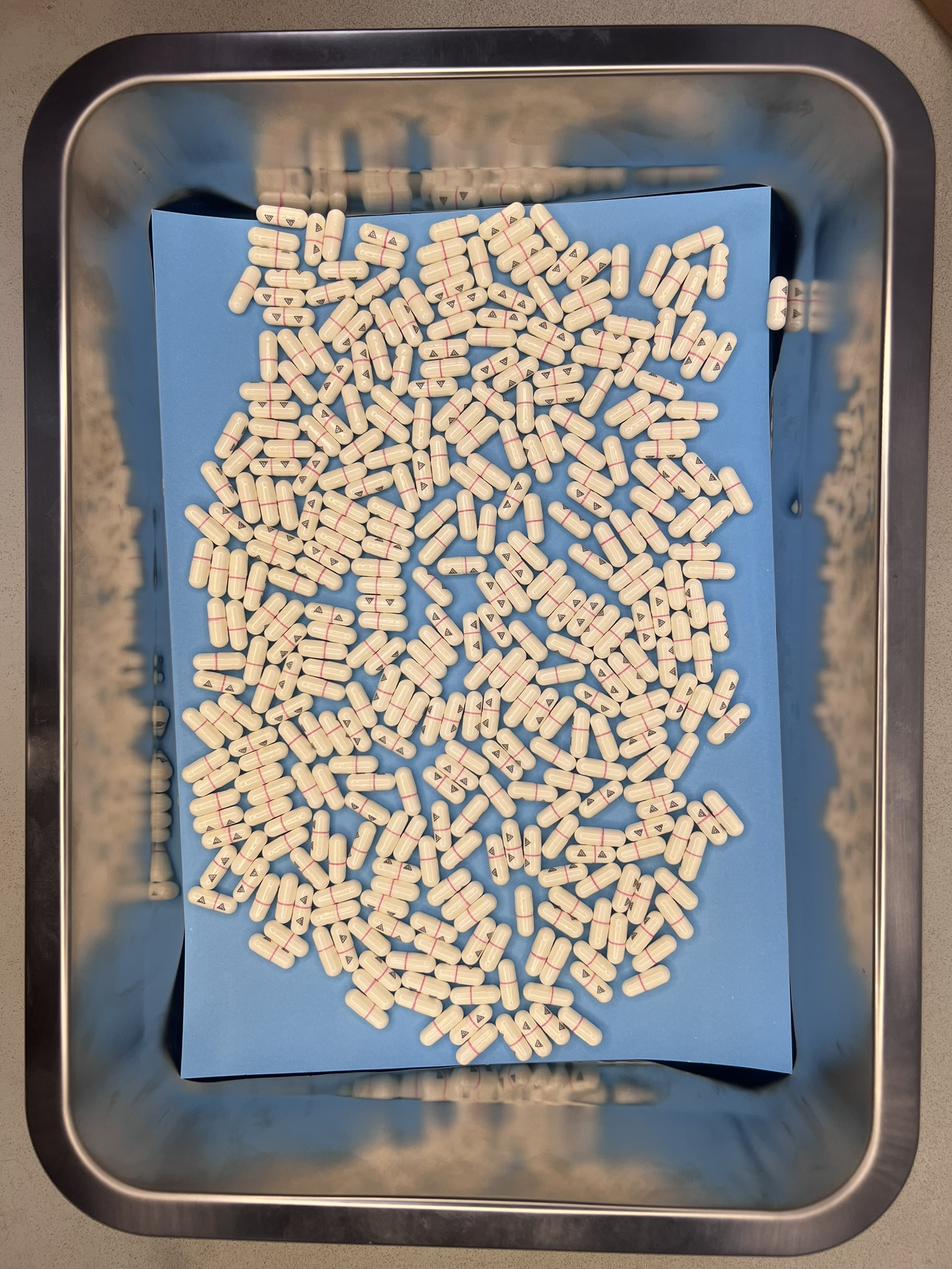Capsule: (418, 1003, 466, 1047), (652, 866, 699, 910), (682, 452, 726, 499), (652, 259, 691, 312), (702, 789, 745, 837), (629, 933, 679, 974), (508, 245, 558, 286), (688, 499, 734, 543), (557, 1004, 604, 1047), (514, 1009, 554, 1059), (566, 247, 612, 290), (524, 557, 570, 600), (354, 266, 401, 308), (495, 1012, 534, 1062), (530, 202, 569, 252), (613, 339, 652, 389), (181, 706, 225, 750), (455, 1022, 500, 1065), (466, 454, 511, 497), (186, 504, 231, 547), (546, 241, 589, 286), (565, 591, 607, 637), (430, 387, 472, 433), (200, 459, 240, 507), (630, 506, 670, 554), (655, 891, 694, 940), (529, 1002, 572, 1046), (708, 702, 751, 746), (299, 414, 342, 458), (658, 458, 701, 502), (209, 501, 254, 543), (680, 329, 717, 380), (572, 940, 618, 981), (668, 496, 714, 537), (246, 591, 287, 637), (608, 551, 654, 592), (619, 400, 666, 440), (278, 359, 318, 406), (478, 200, 525, 240), (672, 225, 724, 261), (226, 264, 262, 316), (663, 732, 700, 782), (570, 960, 613, 1003), (221, 434, 264, 477), (445, 400, 487, 444), (687, 800, 728, 845), (548, 500, 593, 541), (318, 297, 358, 343), (674, 266, 708, 320), (277, 329, 316, 376), (488, 216, 536, 254), (496, 234, 544, 272), (702, 330, 737, 382), (352, 968, 395, 1010), (359, 949, 402, 991), (311, 403, 354, 445), (593, 616, 635, 659), (345, 989, 389, 1030), (439, 829, 483, 870), (496, 727, 537, 771), (448, 1004, 493, 1044), (427, 866, 472, 906), (581, 603, 621, 648), (618, 566, 663, 606), (449, 461, 494, 501), (541, 813, 580, 859), (529, 733, 576, 771), (608, 507, 646, 554), (560, 278, 611, 313), (671, 310, 706, 361), (526, 276, 563, 324), (628, 484, 676, 521), (399, 277, 436, 325), (481, 739, 523, 781), (294, 556, 343, 592), (348, 915, 391, 956), (508, 619, 549, 662), (631, 459, 674, 500), (416, 523, 457, 566), (579, 780, 623, 820), (290, 846, 330, 890), (608, 651, 648, 695), (333, 310, 373, 354), (455, 416, 499, 456), (218, 693, 263, 732), (548, 587, 587, 632), (339, 427, 384, 466), (214, 411, 249, 461), (619, 725, 669, 760), (535, 791, 581, 829), (264, 920, 310, 958), (371, 723, 417, 761), (230, 829, 267, 876), (495, 567, 532, 614), (566, 481, 613, 518), (604, 390, 651, 427), (248, 933, 296, 969), (640, 244, 672, 298), (574, 862, 622, 898), (262, 825, 310, 861), (182, 747, 230, 783), (492, 356, 540, 392), (317, 356, 353, 404), (267, 623, 308, 665), (365, 635, 407, 676), (407, 638, 448, 680), (411, 566, 453, 607), (415, 498, 456, 540), (423, 765, 466, 805), (200, 700, 243, 740), (538, 695, 578, 738), (463, 647, 503, 690), (494, 542, 534, 585), (472, 379, 515, 419), (434, 752, 478, 791), (425, 602, 464, 646), (365, 404, 409, 443), (567, 462, 616, 497), (579, 369, 614, 418), (526, 315, 575, 350), (200, 845, 238, 890), (627, 744, 672, 782), (621, 638, 659, 683), (568, 542, 613, 580), (562, 432, 607, 470), (475, 571, 512, 617), (550, 404, 596, 441), (479, 922, 513, 972), (563, 297, 613, 331), (390, 297, 423, 348), (664, 812, 694, 868), (392, 815, 427, 863), (442, 881, 484, 921), (337, 706, 372, 754), (265, 599, 305, 641), (346, 628, 388, 668), (418, 624, 458, 666), (536, 575, 576, 617), (497, 472, 532, 520), (299, 325, 334, 373), (399, 658, 442, 697), (312, 924, 343, 978), (626, 872, 657, 926), (453, 893, 497, 931), (549, 885, 593, 923), (452, 793, 490, 837), (278, 720, 316, 764), (375, 809, 409, 858), (321, 489, 370, 523), (627, 911, 664, 956), (479, 774, 516, 819), (318, 711, 355, 756), (293, 451, 330, 496), (538, 901, 584, 937), (707, 670, 740, 720), (228, 725, 278, 758), (424, 271, 474, 304), (193, 761, 240, 796), (593, 521, 628, 568), (303, 540, 350, 575), (329, 920, 360, 973), (633, 370, 686, 401), (507, 530, 547, 571), (488, 646, 527, 688), (504, 684, 542, 727), (720, 467, 754, 515), (267, 566, 318, 598), (472, 349, 520, 383), (238, 741, 289, 773), (299, 710, 333, 758), (395, 690, 429, 738), (678, 684, 712, 732), (369, 299, 403, 347), (345, 790, 390, 826), (463, 916, 496, 965), (409, 910, 458, 943), (234, 761, 283, 794), (234, 857, 269, 903), (263, 692, 313, 724), (371, 385, 412, 424), (589, 660, 628, 701), (291, 761, 325, 808), (622, 965, 670, 998), (414, 932, 462, 965), (524, 688, 560, 732), (367, 496, 415, 529), (522, 433, 553, 484), (243, 795, 294, 826), (253, 524, 304, 555), (620, 688, 671, 719), (499, 419, 530, 470), (444, 740, 489, 775), (540, 937, 572, 986), (367, 911, 416, 943), (617, 707, 666, 739), (488, 283, 537, 315), (574, 684, 620, 718), (526, 926, 556, 978), (417, 256, 469, 286), (192, 805, 244, 835), (501, 660, 539, 701), (547, 631, 594, 664), (315, 526, 362, 559), (611, 862, 642, 912), (534, 414, 565, 464), (242, 636, 270, 691), (478, 603, 513, 647), (416, 237, 469, 266), (312, 762, 344, 810), (666, 672, 698, 720), (517, 334, 565, 366), (437, 287, 488, 317), (430, 213, 481, 243), (249, 872, 279, 923), (262, 806, 313, 836), (250, 664, 281, 713), (320, 508, 366, 541), (523, 981, 575, 1010), (354, 242, 406, 271), (312, 879, 364, 908), (383, 679, 415, 726), (359, 222, 409, 252), (371, 663, 401, 713), (679, 831, 708, 882), (393, 988, 444, 1017), (187, 886, 238, 915), (305, 278, 356, 307), (244, 540, 295, 569), (360, 889, 409, 919), (344, 470, 393, 500), (346, 821, 376, 870), (248, 775, 297, 805), (319, 461, 368, 491), (346, 681, 377, 728), (188, 538, 216, 590), (635, 791, 687, 819), (309, 899, 361, 927), (189, 788, 241, 816), (616, 835, 666, 864), (367, 516, 415, 546), (624, 813, 675, 841), (652, 306, 677, 363), (434, 961, 486, 988), (303, 600, 355, 627), (663, 557, 689, 611), (401, 971, 451, 999), (428, 312, 478, 340), (392, 462, 420, 512), (274, 872, 300, 925), (366, 329, 392, 382), (192, 668, 245, 694), (254, 474, 280, 527), (370, 875, 421, 902), (371, 856, 422, 883), (201, 823, 252, 850), (297, 674, 346, 702), (591, 712, 619, 761), (589, 896, 613, 953), (537, 862, 589, 888), (573, 346, 625, 372), (631, 601, 658, 651), (361, 536, 411, 563), (602, 435, 630, 483), (275, 652, 303, 700), (418, 697, 446, 745), (364, 443, 412, 471), (395, 768, 421, 819), (385, 950, 436, 976), (274, 479, 300, 530), (243, 561, 269, 612), (533, 362, 584, 388), (623, 777, 674, 803), (297, 490, 323, 541), (577, 756, 628, 782), (342, 384, 368, 435), (236, 473, 261, 526), (247, 226, 300, 251), (500, 818, 524, 873), (304, 212, 328, 267), (706, 242, 729, 299), (603, 315, 653, 341), (440, 690, 465, 742), (684, 577, 709, 629), (449, 984, 503, 1008), (573, 825, 627, 849), (389, 342, 413, 396), (289, 883, 314, 934), (580, 328, 631, 353), (303, 656, 352, 682), (497, 958, 521, 1011), (320, 209, 345, 259), (468, 238, 493, 288), (543, 767, 593, 792), (248, 246, 300, 270), (535, 662, 587, 686), (649, 586, 673, 638), (513, 884, 536, 938), (227, 549, 250, 603), (766, 276, 789, 330), (570, 705, 593, 759), (669, 609, 692, 663), (316, 260, 372, 282), (691, 632, 715, 683), (356, 575, 407, 599), (507, 779, 558, 803), (533, 382, 584, 406), (486, 833, 509, 886), (648, 419, 701, 442), (706, 601, 730, 651), (208, 544, 231, 596), (256, 204, 308, 227), (682, 560, 738, 581), (606, 913, 629, 964), (307, 621, 358, 644), (420, 357, 471, 380), (351, 341, 374, 392), (249, 419, 302, 441), (254, 287, 307, 309), (430, 433, 451, 488), (419, 340, 469, 363), (437, 556, 487, 579), (298, 638, 348, 661), (345, 772, 397, 794), (455, 489, 477, 541), (311, 807, 331, 864), (413, 395, 433, 452), (193, 652, 247, 673), (247, 399, 301, 420), (565, 843, 616, 865), (666, 400, 717, 422), (351, 557, 402, 579), (656, 636, 678, 687), (413, 450, 435, 501), (262, 307, 315, 328), (468, 327, 518, 349), (610, 244, 630, 299), (239, 382, 291, 403), (419, 835, 440, 887), (431, 799, 452, 851), (462, 690, 483, 742), (477, 307, 524, 330), (516, 381, 536, 435), (355, 594, 409, 614), (412, 376, 461, 398), (477, 504, 498, 555), (481, 688, 502, 739), (328, 755, 381, 775), (667, 542, 722, 561), (328, 833, 348, 885), (523, 824, 543, 876), (635, 439, 687, 459), (207, 597, 229, 644), (253, 457, 304, 477), (262, 439, 310, 460), (258, 330, 278, 380), (225, 600, 247, 645), (265, 269, 312, 290), (358, 613, 407, 633), (463, 612, 482, 662), (523, 493, 543, 540)
